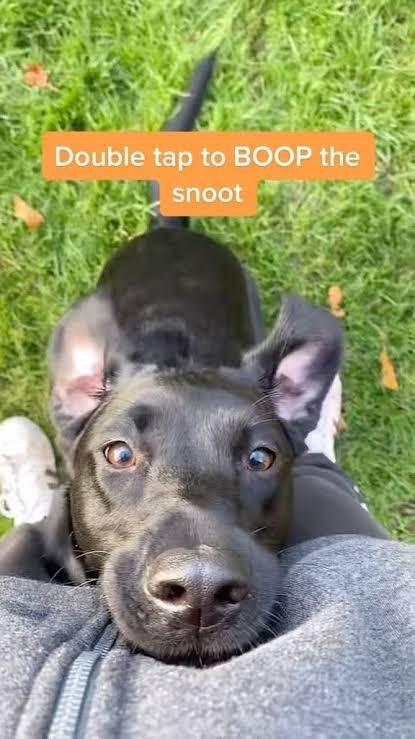adult_dog: (5, 29, 350, 665)
